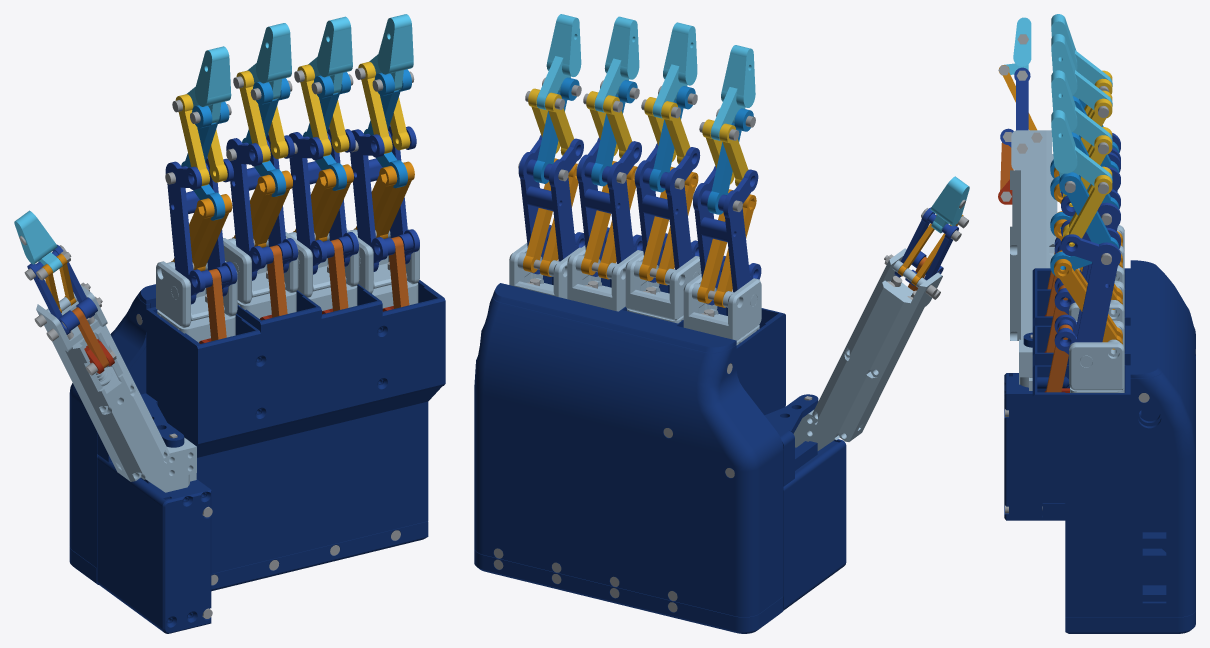
The model's file is hand-final-v3.glb.
3 renders of one model, left to right at view 1: azimuth 30°, elevation 25°; view 2: azimuth 150°, elevation 25°; view 3: azimuth 270°, elevation 25°, orthographic. The views are drawn at different scales.
Parts seen in each view (by area): view 1: Palm,_Final_v3__sockets_35_08;_flat_rear_face_with_a_lug_beh, Link_plate__palm_face_over_the_carriage_ears_and_links_, Proximal_half_+Y (×4), Thumb_module:_393_housing,_front_bearing,_stops,_base_and_ou, Thumb_unit,_palm_half__ear_slot,_bolt_heads,_hub_clamp_half_, Finger_base__Lingbo's_Final_Finger_Base_step,_as_uploaded_ (×4), Thumb_module_lid__two_ribs_on_the_393;_two_holes_over_the_do, Electronics_shell__the_back_of_the_hand:_flat_to_mid-palm,_t, Distal_half_+Y (×4), Proximal_half_-Y (×4), Coupler_bar_R_+Y (×4), Link (×4) (+15 smaller); view 2: Electronics_shell__the_back_of_the_hand:_flat_to_mid-palm,_t, Proximal_half_+Y (×4), Thumb_module:_393_housing,_front_bearing,_stops,_base_and_ou, Finger_base__Lingbo's_Final_Finger_Base_step,_as_uploaded_ (×4), Thumb_unit,_back_half__nut_pockets,_hub_clamp_half_, Distal_half_+Y (×4), Proximal_half_-Y (×4), Wire_cover:_the_end_cap_over_the_rear_of_the_palm_and_of_the, Electronics_plate__against_the_palm's_back;_every_board_on_i, Palm,_Final_v3__sockets_35_08;_flat_rear_face_with_a_lug_beh, Coupler_bar_Q_-Y (×4), Middle_phalanx_half_+Y (×4) (+5 smaller); view 3: Palm,_Final_v3__sockets_35_08;_flat_rear_face_with_a_lug_beh, Electronics_shell__the_back_of_the_hand:_flat_to_mid-palm,_t, Distal_half_-Y (×4), Electronics_plate__against_the_palm's_back;_every_board_on_i, Proximal_half_-Y (×2), Thumb_unit,_palm_half__ear_slot,_bolt_heads,_hub_clamp_half_, Thumb_module:_393_housing,_front_bearing,_stops,_base_and_ou, Finger_base__Lingbo's_Final_Finger_Base_step,_as_uploaded_ (×2), Wire_cover:_the_end_cap_over_the_rear_of_the_palm_and_of_the, Middle_phalanx_half_-Y (×3), Thumb_unit,_back_half__nut_pockets,_hub_clamp_half_, Coupler_bar_R_-Y (×3) (+9 smaller).
Part boxes in pixels (box(x1,y1,x2,y2)): Palm,_Final_v3__sockets_35_08;_flat_rear_face_with_a_lug_beh: box(146, 280, 442, 573); Link_plate__palm_face_over_the_carriage_ears_and_links_: box(195, 297, 445, 446); Proximal_half_+Y (×4): box(165, 129, 395, 304); Thumb_module:_393_housing,_front_bearing,_stops,_base_and_ou: box(97, 393, 209, 630); Thumb_unit,_palm_half__ear_slot,_bolt_heads,_hub_clamp_half_: box(58, 325, 196, 492); Finger_base__Lingbo's_Final_Finger_Base_step,_as_uploaded_ (×4): box(156, 229, 419, 327); Thumb_module_lid__two_ribs_on_the_393;_two_holes_over_the_do: box(161, 489, 211, 633); Electronics_shell__the_back_of_the_hand:_flat_to_mid-palm,_t: box(69, 294, 150, 567); Distal_half_+Y (×4): box(187, 16, 403, 123); Proximal_half_-Y (×4): box(190, 124, 419, 296); Coupler_bar_R_+Y (×4): box(175, 61, 392, 186); Link (×4): box(206, 236, 409, 341); Electronics_shell__the_back_of_the_hand:_flat_to_mid-palm,_t: box(474, 296, 783, 617); Proximal_half_+Y (×4): box(539, 138, 761, 292); Thumb_module:_393_housing,_front_bearing,_stops,_base_and_ou: box(764, 394, 844, 610); Finger_base__Lingbo's_Final_Finger_Base_step,_as_uploaded_ (×4): box(509, 243, 761, 340); Thumb_unit,_back_half__nut_pockets,_hub_clamp_half_: box(793, 289, 917, 450); Distal_half_+Y (×4): box(540, 16, 755, 140); Proximal_half_-Y (×4): box(518, 135, 725, 305); Wire_cover:_the_end_cap_over_the_rear_of_the_palm_and_of_the: box(474, 549, 783, 633); Electronics_plate__against_the_palm's_back;_every_board_on_i: box(492, 283, 736, 352); Palm,_Final_v3__sockets_35_08;_flat_rear_face_with_a_lug_beh: box(543, 275, 783, 415); Coupler_bar_Q_-Y (×4): box(523, 158, 732, 303); Middle_phalanx_half_+Y (×4): box(537, 77, 753, 214); Palm,_Final_v3__sockets_35_08;_flat_rear_face_with_a_lug_beh: box(1037, 268, 1130, 617); Electronics_shell__the_back_of_the_hand:_flat_to_mid-palm,_t: box(1130, 271, 1195, 617); Distal_half_-Y (×4): box(1051, 17, 1112, 186); Electronics_plate__against_the_palm's_back;_every_board_on_i: box(1130, 260, 1166, 601); Proximal_half_-Y (×2): box(1054, 195, 1120, 354); Thumb_unit,_palm_half__ear_slot,_bolt_heads,_hub_clamp_half_: box(1010, 170, 1033, 390); Thumb_module:_393_housing,_front_bearing,_stops,_base_and_ou: box(1009, 332, 1065, 520); Finger_base__Lingbo's_Final_Finger_Base_step,_as_uploaded_ (×2): box(1069, 281, 1124, 390); Wire_cover:_the_end_cap_over_the_rear_of_the_palm_and_of_the: box(1065, 532, 1195, 633); Middle_phalanx_half_-Y (×3): box(1050, 96, 1119, 275); Thumb_unit,_back_half__nut_pockets,_hub_clamp_half_: box(1033, 170, 1057, 268); Coupler_bar_R_-Y (×3): box(1063, 98, 1112, 246).
Size of the model in its own units: 0.2607 by 0.319 by 0.1086.
